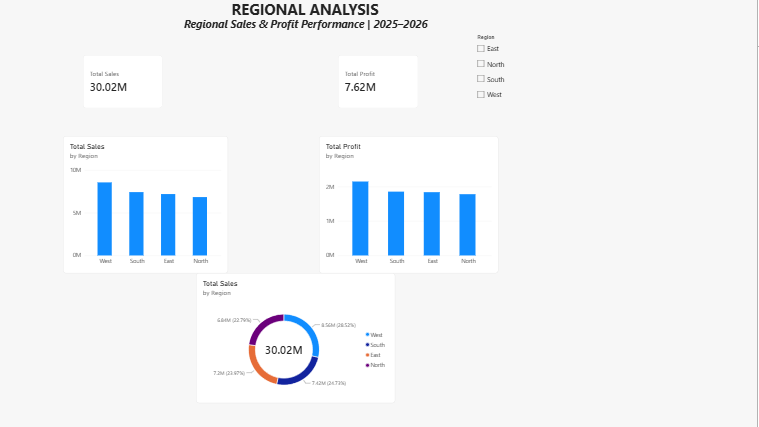

Layout of this report page (visuals, bound fields, positions):
{"tool":"powerbi","page":{"name":"Regional Analysis","canvas":[1920,1080],"ordinal":2},"visuals":[{"type":"textbox","box":[554,0,454,64],"z":0},{"type":"textbox","box":[450,42,664,44],"z":1},{"type":"clusteredColumnChart","fields":{"Category":["Sales.Region"],"Y":["DateTable.Total Sales"]},"box":[172,344,416,346],"z":2},{"type":"clusteredColumnChart","fields":{"Category":["Sales.Region"],"Y":["DateTable.Total Profit"]},"box":[816,344,452,346],"z":3},{"type":"slicer","fields":{"Values":["Sales.Region"]},"box":[864,706,300,234],"z":4},{"type":"donutChart","fields":{"Category":["Sales.Region"],"Y":["DateTable.Total Sales"]},"box":[172,706,502,328],"z":5},{"type":"cardVisual","fields":{"Data":["DateTable.Total Sales"]},"box":[222,140,200,134],"z":6},{"type":"cardVisual","fields":{"Data":["DateTable.Total Profit"]},"box":[864,140,202,134],"z":7}]}

Visuals, with their boxes in screenshot pixels (x1, y1, x2, y2), scaled from the page's 1920x1080 canvas onto the 759x427 screenshot:
textbox: 219 0 398 25
textbox: 178 17 440 34
clusteredColumnChart - Sales.Region x DateTable.Total Sales: 68 136 232 273
clusteredColumnChart - Sales.Region x DateTable.Total Profit: 323 136 501 273
slicer - Sales.Region: 342 279 460 372
donutChart - Sales.Region x DateTable.Total Sales: 68 279 266 409
cardVisual - DateTable.Total Sales: 88 55 167 108
cardVisual - DateTable.Total Profit: 342 55 421 108
